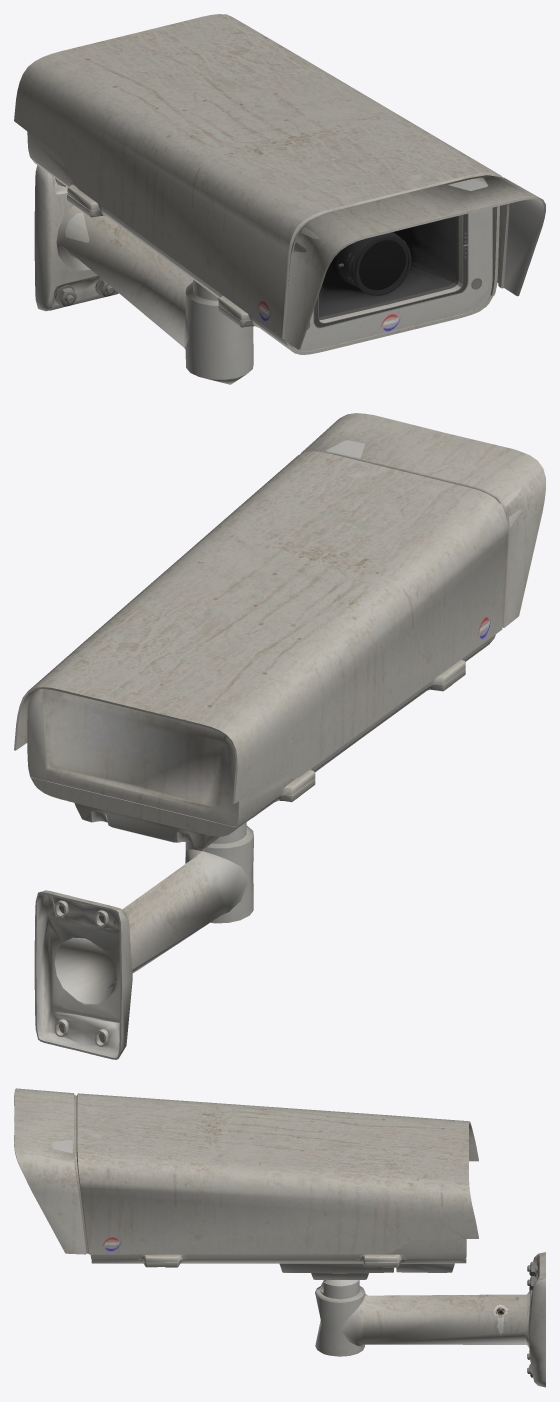
Rendered from CCTVBulletHousing.obj.
3 renders of one model, top to bottom at view 1: azimuth 30°, elevation 25°; view 2: azimuth 150°, elevation 25°; view 3: azimuth 270°, elevation 25°, orthographic. The views are drawn at different scales.
Visible parts, largest first — view 1: Camera, Window; view 2: Camera; view 3: Camera.
Boxes of the visible parts, bbox=[...] form: Camera: bbox=[14, 14, 545, 384]; Window: bbox=[319, 216, 458, 319]; Camera: bbox=[14, 413, 545, 1059]; Camera: bbox=[14, 1088, 545, 1387].
Size of the model in its own units: 0.1406 by 0.2086 by 0.3938.
Materials: 2 (1 with a texture image).
